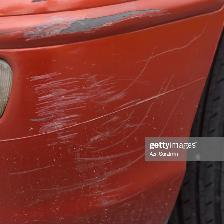scrach: (25, 88, 130, 147)
